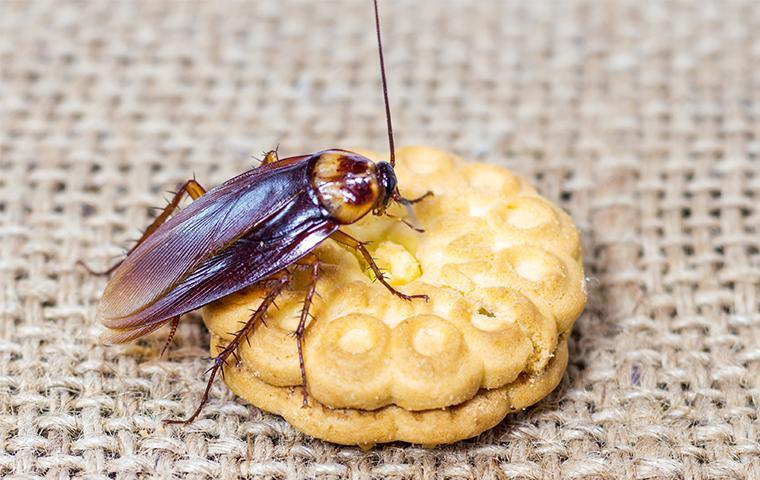cockroach: (101, 146, 400, 348)
